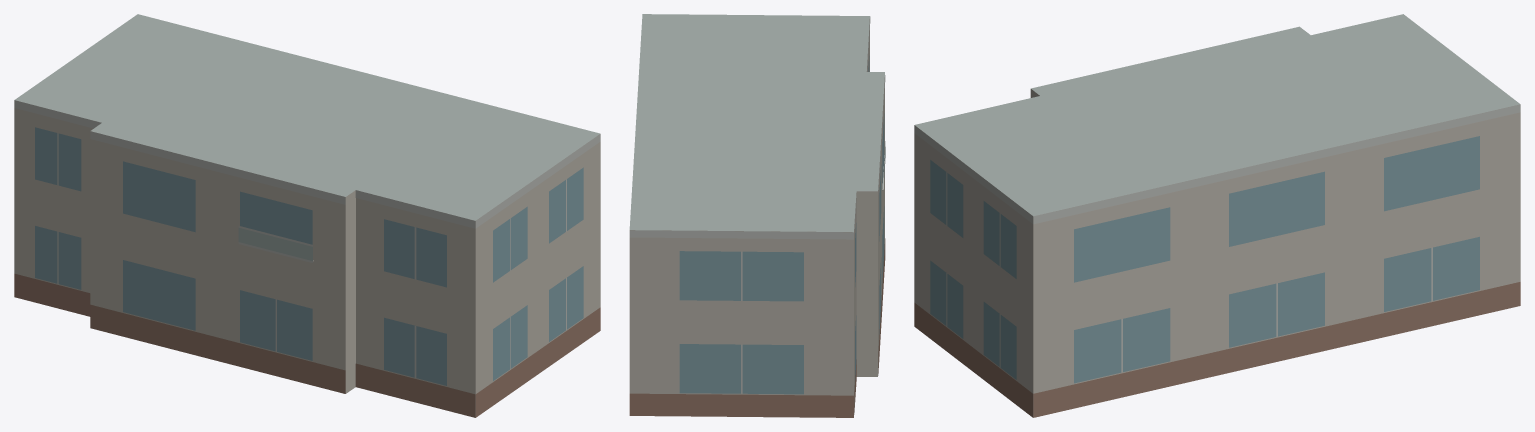
File: survey-upis-32885859.glb
3 renders of one model, left to right at view 1: azimuth 30°, elevation 25°; view 2: azimuth 150°, elevation 25°; view 3: azimuth 270°, elevation 25°, orthographic. The views are drawn at different scales.
Visible parts, largest first — view 1: survey-upis-32885859.tmp; view 2: survey-upis-32885859.tmp; view 3: survey-upis-32885859.tmp.
Part boxes in pixels (x1=…): survey-upis-32885859.tmp: x1=14, y1=14, x2=600, y2=417; survey-upis-32885859.tmp: x1=629, y1=14, x2=885, y2=417; survey-upis-32885859.tmp: x1=914, y1=14, x2=1520, y2=417.
Size of the model in its own units: 13.14 by 6.1 by 16.64.
